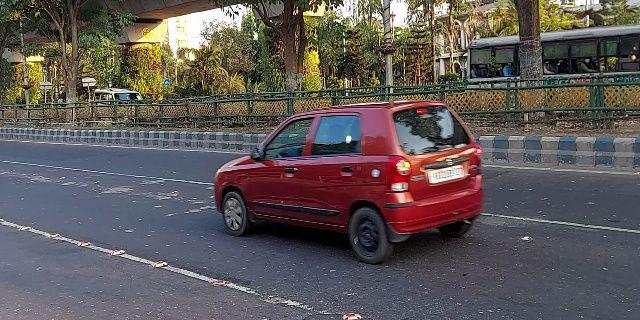Car: (212, 99, 488, 266)
